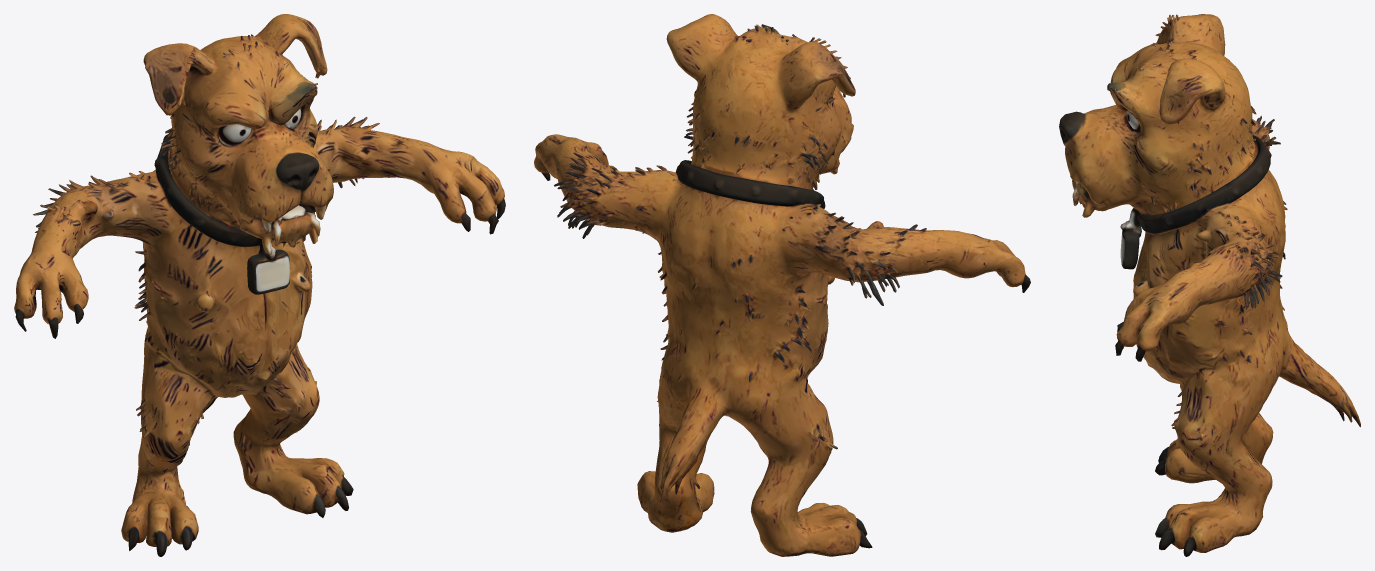
The model's file is cul_de_sac_hound.fbx.
The picture shows the model from 3 angles, left to right: view 1: azimuth 30°, elevation 25°; view 2: azimuth 150°, elevation 25°; view 3: azimuth 270°, elevation 25°; orthographic projection. The views are drawn at different scales.
Visible parts, largest first — view 1: cul_de_sac_hound; view 2: cul_de_sac_hound; view 3: cul_de_sac_hound.
Boxes of the visible parts, bbox=[...] form: cul_de_sac_hound: bbox=[14, 14, 505, 556]; cul_de_sac_hound: bbox=[534, 14, 1030, 556]; cul_de_sac_hound: bbox=[1059, 14, 1360, 556].
Bounding box in the file's own units: 1.14 × 1.1 × 0.6414.
Materials: 1 (1 with a texture image).
